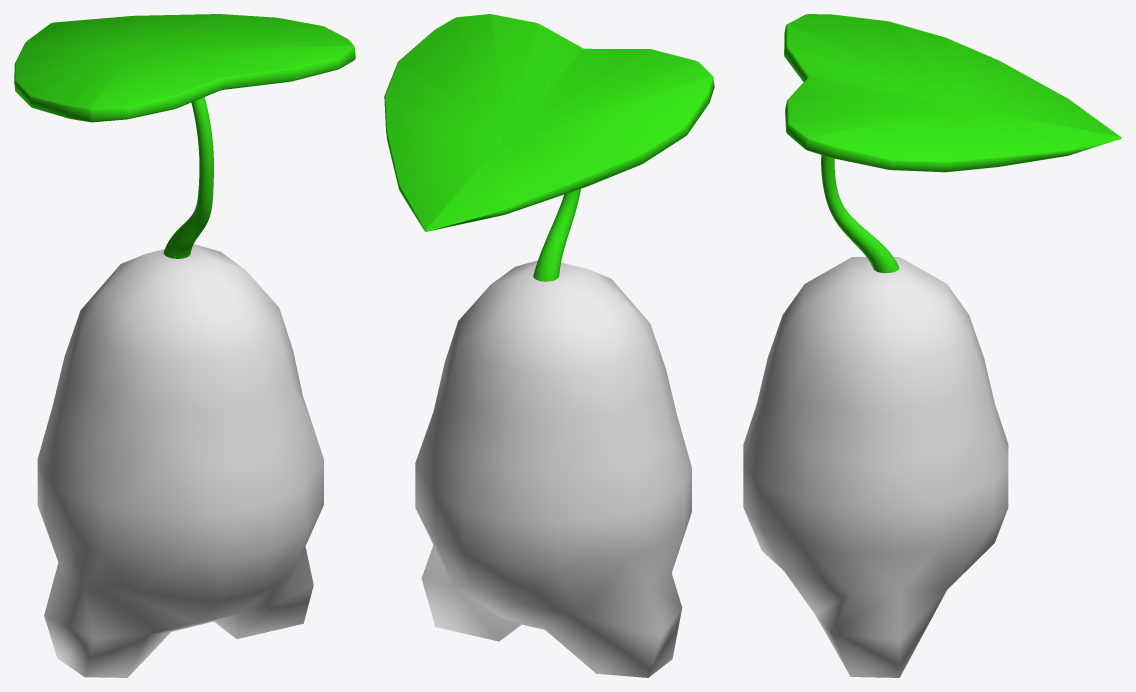
Rendered from Leafster.fbx.
The picture shows the model from 3 angles, left to right: view 1: azimuth 30°, elevation 25°; view 2: azimuth 150°, elevation 25°; view 3: azimuth 270°, elevation 25°; orthographic projection. The views are drawn at different scales.
Parts seen in each view (by area): view 1: Dirtbag, Leaf, Stem; view 2: Dirtbag, Leaf, Stem; view 3: Dirtbag, Leaf, Stem.
Part boxes in pixels (bbox=[...]): Dirtbag: bbox=[37, 244, 323, 677]; Leaf: bbox=[14, 14, 355, 122]; Stem: bbox=[163, 97, 213, 258]; Dirtbag: bbox=[415, 260, 691, 677]; Leaf: bbox=[384, 14, 714, 231]; Stem: bbox=[533, 189, 580, 281]; Dirtbag: bbox=[743, 257, 1008, 677]; Leaf: bbox=[784, 14, 1121, 172]; Stem: bbox=[821, 155, 899, 272].
Bounding box in the file's own units: 271 × 528 × 318.
